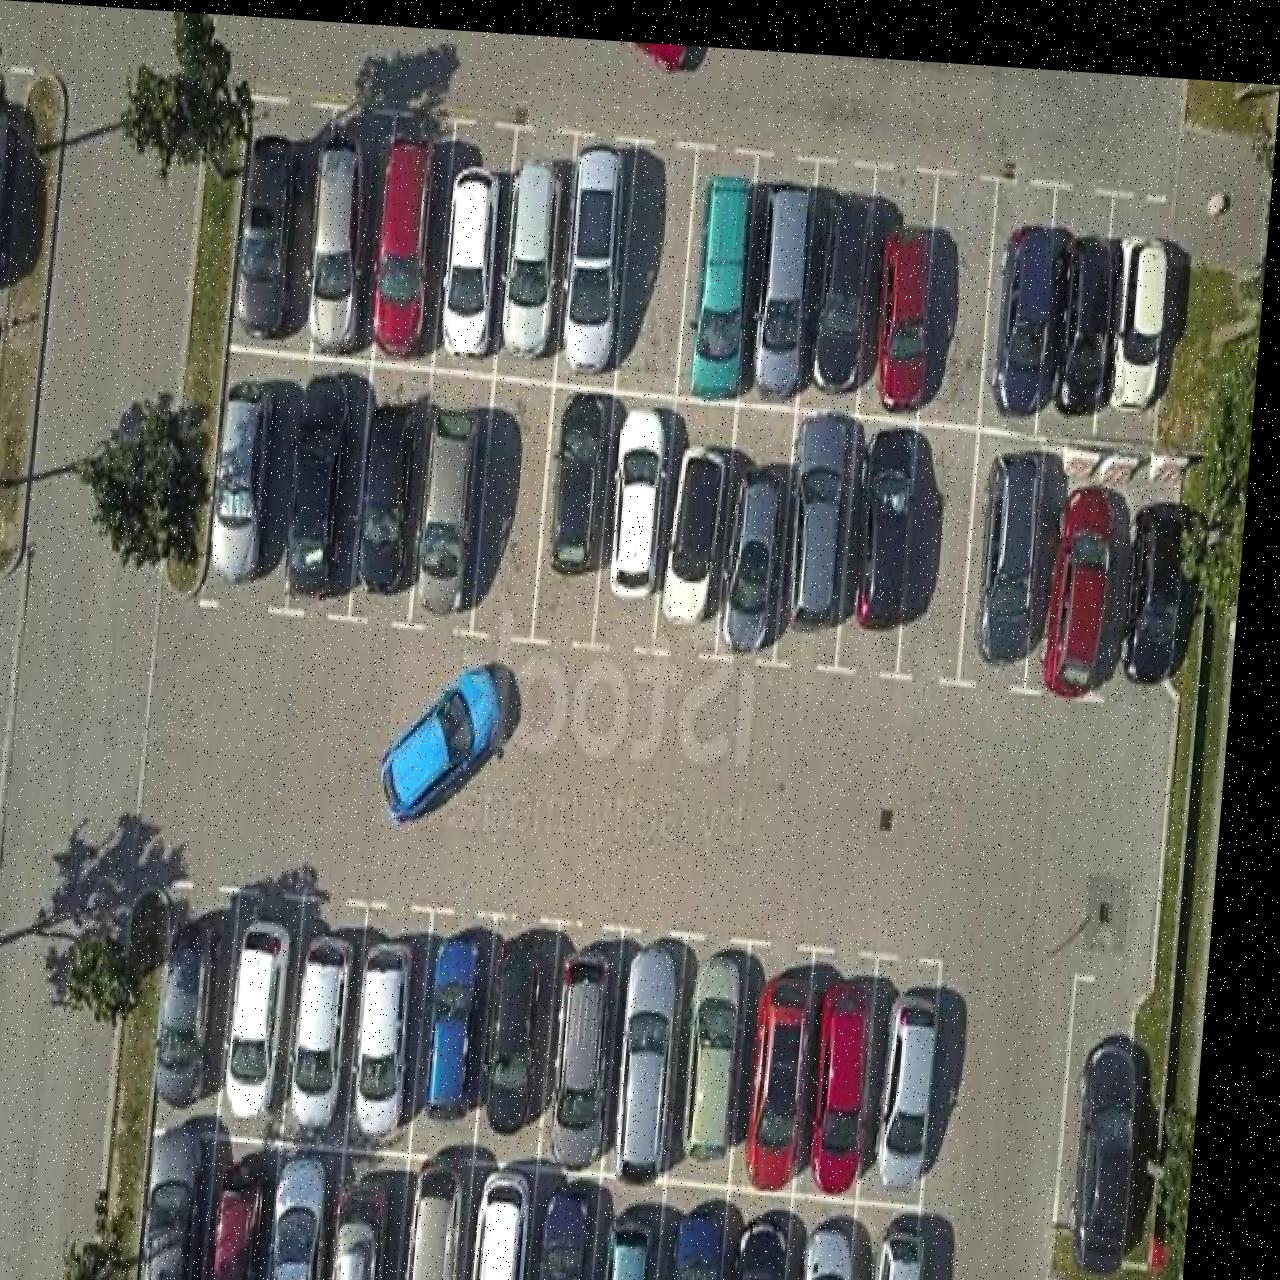car: (392, 647, 532, 824), (1053, 468, 1148, 683), (1088, 1022, 1164, 1259), (629, 931, 699, 1178), (792, 400, 867, 620), (761, 965, 833, 1179), (566, 939, 635, 1162), (370, 130, 437, 353), (294, 368, 361, 591), (565, 131, 628, 366), (692, 166, 756, 392), (311, 130, 376, 347), (695, 945, 762, 1156), (825, 968, 891, 1183), (995, 207, 1067, 403), (240, 914, 308, 1115), (756, 175, 819, 389), (985, 436, 1048, 651), (858, 416, 925, 619), (424, 401, 489, 610), (236, 130, 301, 334), (0, 73, 61, 292), (170, 917, 240, 1104), (728, 455, 797, 644), (219, 374, 281, 581), (1131, 484, 1200, 669), (306, 928, 370, 1124), (505, 152, 568, 352), (815, 181, 877, 383), (362, 397, 427, 588), (369, 933, 430, 1133), (501, 932, 563, 1126), (877, 213, 941, 399), (618, 399, 679, 591), (672, 434, 736, 615), (894, 981, 954, 1177), (1057, 222, 1119, 402), (445, 159, 503, 352), (441, 928, 498, 1115), (1115, 218, 1175, 396), (558, 383, 615, 566), (163, 1119, 227, 1280), (288, 1148, 354, 1280), (427, 1153, 490, 1280), (490, 1156, 554, 1280), (232, 1152, 288, 1280), (348, 1169, 410, 1280), (556, 1176, 617, 1280), (686, 1203, 745, 1280), (624, 1199, 680, 1280), (753, 1210, 816, 1280), (818, 1216, 881, 1280), (887, 1216, 951, 1280)
